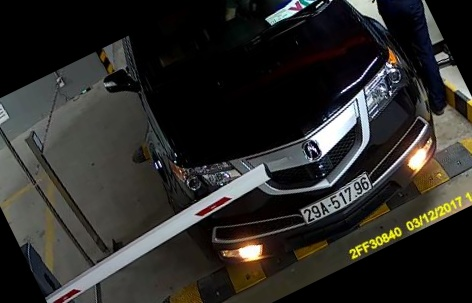plate: (296, 172, 380, 228)
